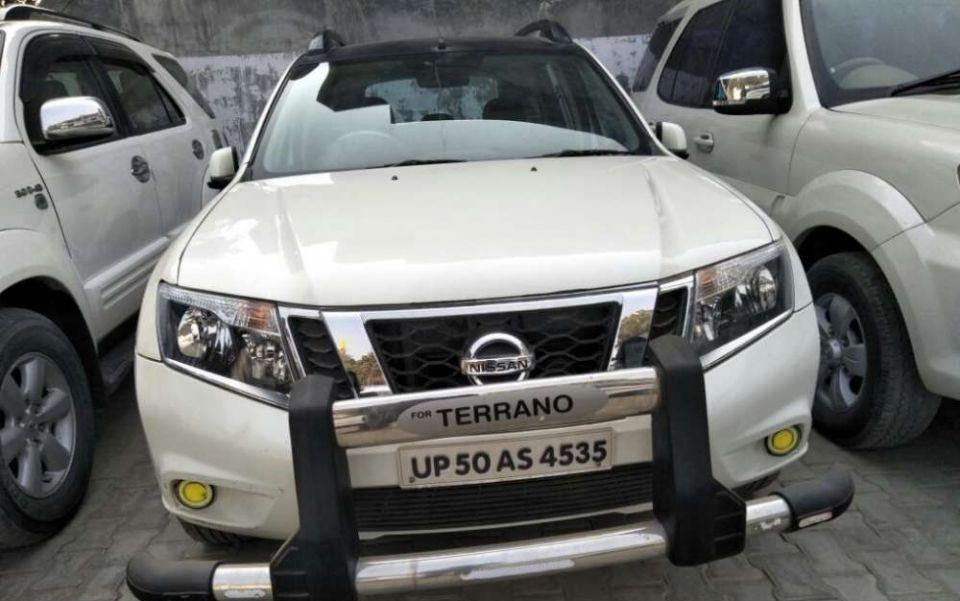License-Plate: (402, 434, 621, 488)
